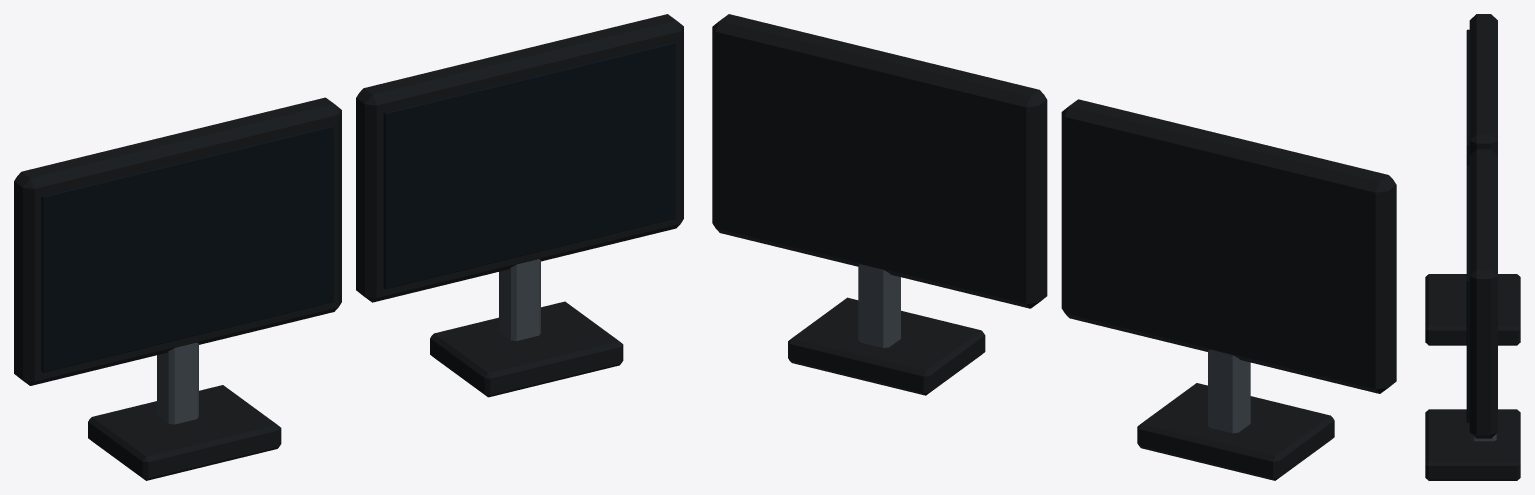
The model's file is DualMonitor.fbx.
3 views of the same model, side by side, from view 1: azimuth 30°, elevation 25°; view 2: azimuth 150°, elevation 25°; view 3: azimuth 270°, elevation 25° (orthographic). The views are drawn at different scales.
Parts seen in each view (by area): view 1: DualMonitor; view 2: DualMonitor; view 3: DualMonitor.
Boxes of the visible parts, x1,y1,x2,y2 form: DualMonitor: [14, 14, 683, 480]; DualMonitor: [712, 14, 1396, 480]; DualMonitor: [1425, 14, 1520, 480].
Size of the model in its own units: 143 by 62.5 by 22.
Materials: 1 (1 with a texture image).
